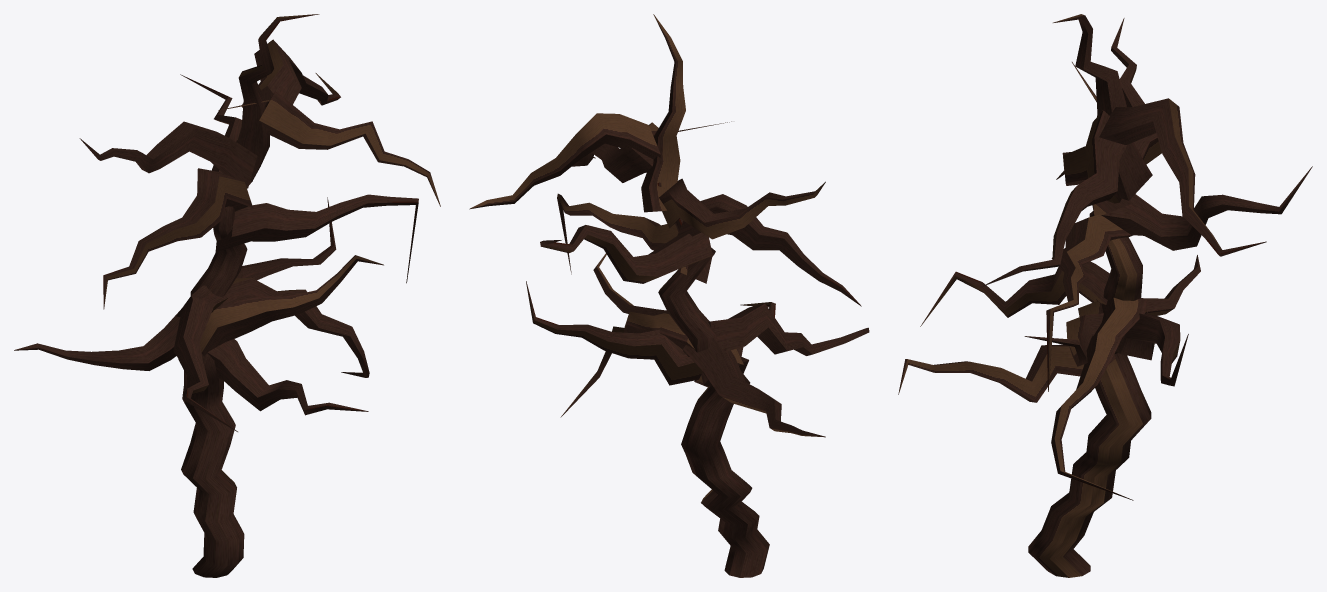
File: Tree2.fbx
The picture shows the model from 3 angles, left to right: view 1: azimuth 30°, elevation 25°; view 2: azimuth 150°, elevation 25°; view 3: azimuth 270°, elevation 25°; orthographic projection. The views are drawn at different scales.
Visible parts, largest first — view 1: Branch_1, Twig_13, Twig_4, Twig_12, Twig_6, Twig_8, Twig_5, Twig_2, Twig_3, Twig_9, Twig_1, Twig_10 (+2 smaller); view 2: Branch_1, Twig_10, Twig_7, Twig_11, Twig_2, Twig_3, Twig_12, Twig_9, Twig_4, Twig_13, Twig_1, Twig_8 (+1 smaller); view 3: Branch_1, Twig_10, Twig_7, Twig_8, Twig_1, Twig_5, Twig_3, Twig_13, Twig_2, Twig_11, Twig_6, Twig_12 (+2 smaller).
Boxes of the visible parts, left/top/right/bottom form: Branch_1: left=178, top=100, right=269, bottom=577; Twig_13: left=215, top=194, right=418, bottom=283; Twig_4: left=103, top=168, right=252, bottom=309; Twig_12: left=79, top=121, right=257, bottom=188; Twig_6: left=200, top=255, right=383, bottom=356; Twig_8: left=258, top=91, right=440, bottom=206; Twig_5: left=207, top=339, right=368, bottom=415; Twig_2: left=173, top=285, right=237, bottom=431; Twig_3: left=236, top=14, right=319, bottom=180; Twig_9: left=14, top=310, right=213, bottom=370; Twig_1: left=220, top=278, right=369, bottom=377; Twig_10: left=242, top=39, right=340, bottom=107; Branch_1: left=653, top=121, right=769, bottom=577; Twig_10: left=469, top=113, right=660, bottom=209; Twig_7: left=540, top=225, right=712, bottom=283; Twig_11: left=526, top=281, right=702, bottom=385; Twig_2: left=708, top=303, right=869, bottom=355; Twig_3: left=641, top=14, right=685, bottom=212; Twig_12: left=659, top=178, right=825, bottom=239; Twig_9: left=683, top=338, right=825, bottom=437; Twig_4: left=676, top=194, right=861, bottom=306; Twig_13: left=557, top=193, right=711, bottom=283; Twig_1: left=560, top=311, right=694, bottom=417; Twig_8: left=572, top=122, right=658, bottom=182; Branch_1: left=1028, top=62, right=1151, bottom=577; Twig_10: left=1099, top=98, right=1266, bottom=256; Twig_7: left=1101, top=166, right=1312, bottom=250; Twig_8: left=983, top=110, right=1126, bottom=286; Twig_1: left=1051, top=297, right=1147, bottom=500; Twig_5: left=898, top=344, right=1115, bottom=402; Twig_3: left=1053, top=14, right=1152, bottom=200; Twig_13: left=1046, top=214, right=1132, bottom=391; Twig_2: left=920, top=261, right=1109, bottom=326; Twig_11: left=1116, top=313, right=1188, bottom=386; Twig_6: left=1024, top=301, right=1117, bottom=366; Twig_12: left=1111, top=18, right=1161, bottom=164.
Bounding box in the file's own units: 38.93 × 58.89 × 36.85.
